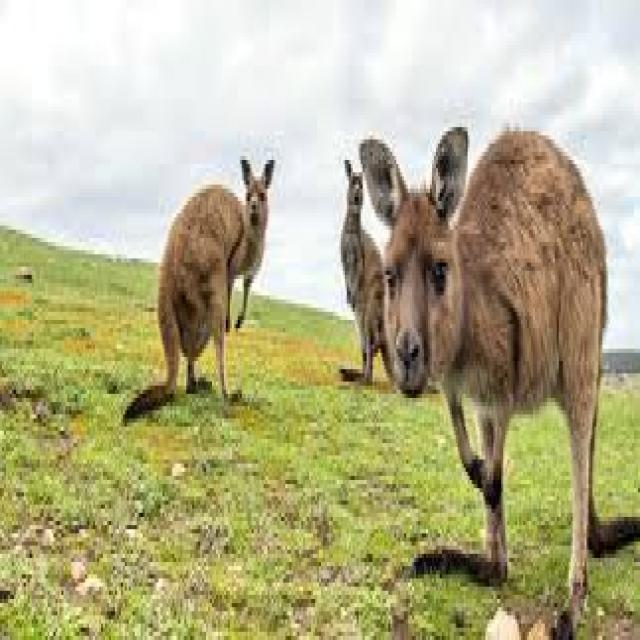Kangaroo: (359, 116, 614, 606), (119, 135, 280, 429), (336, 143, 392, 394)
